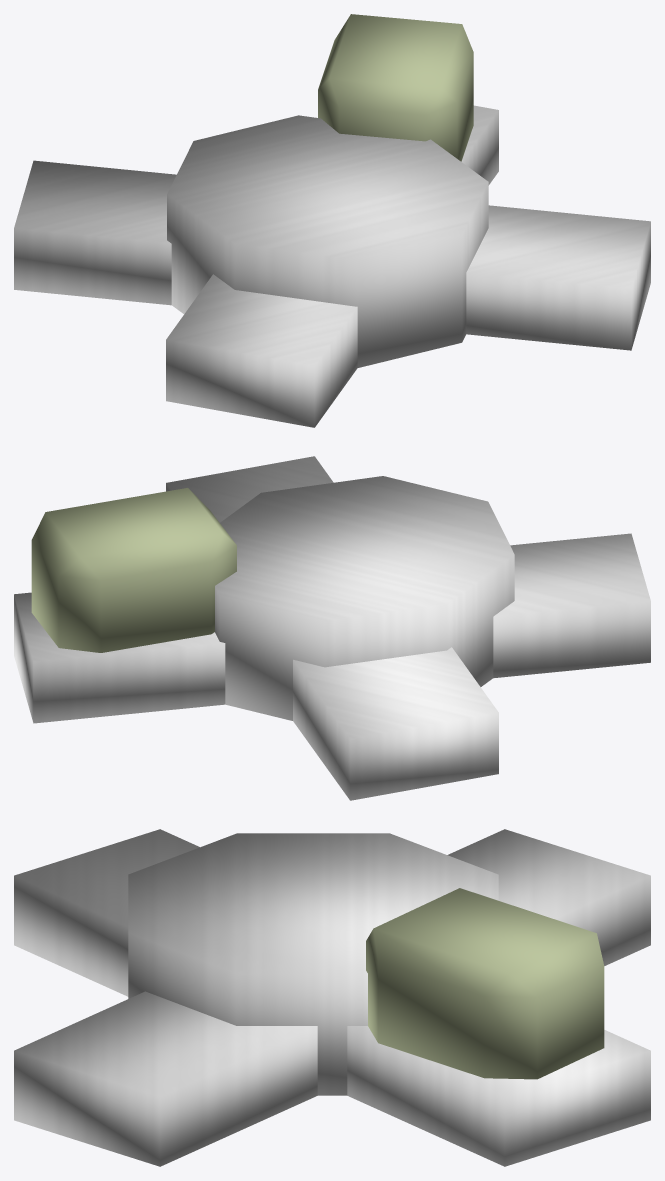
Rendered from item_rm_component_a.obj.
The picture shows the model from 3 angles, top to bottom: view 1: azimuth 30°, elevation 25°; view 2: azimuth 150°, elevation 25°; view 3: azimuth 270°, elevation 25°; orthographic projection. The views are drawn at different scales.
Parts seen in each view (by area): view 1: item_rm_component_a_component_03, item_rm_component_a_component_01, item_rm_component_a_component_02, item_rm_component_a_component_04; view 2: item_rm_component_a_component_03, item_rm_component_a_component_02, item_rm_component_a_component_01, item_rm_component_a_component_04; view 3: item_rm_component_a_component_03, item_rm_component_a_component_01, item_rm_component_a_component_02, item_rm_component_a_component_04.
Boxes of the visible parts, x1=… form: item_rm_component_a_component_03: x1=167, y1=115, x2=488, y2=367; item_rm_component_a_component_01: x1=14, y1=160, x2=650, y2=350; item_rm_component_a_component_02: x1=166, y1=105, x2=498, y2=427; item_rm_component_a_component_04: x1=318, y1=14, x2=473, y2=161; item_rm_component_a_component_03: x1=215, y1=476, x2=514, y2=720; item_rm_component_a_component_02: x1=14, y1=533, x2=650, y2=723; item_rm_component_a_component_01: x1=166, y1=456, x2=498, y2=800; item_rm_component_a_component_04: x1=31, y1=488, x2=236, y2=652; item_rm_component_a_component_03: x1=128, y1=833, x2=498, y2=1095; item_rm_component_a_component_01: x1=14, y1=829, x2=650, y2=1166; item_rm_component_a_component_02: x1=14, y1=829, x2=650, y2=1166; item_rm_component_a_component_04: x1=366, y1=888, x2=604, y2=1079.
Bounding box in the file's own units: 0.897 × 0.272 × 0.901.
